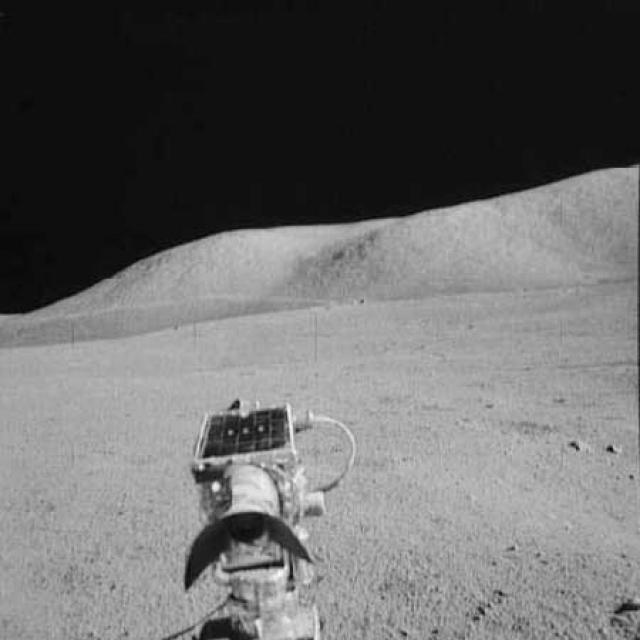artifact: (170, 387, 376, 638)
rock: (562, 434, 588, 458), (600, 434, 622, 460)
